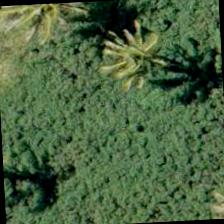Kelapa_Sawit: (72, 16, 167, 111)
